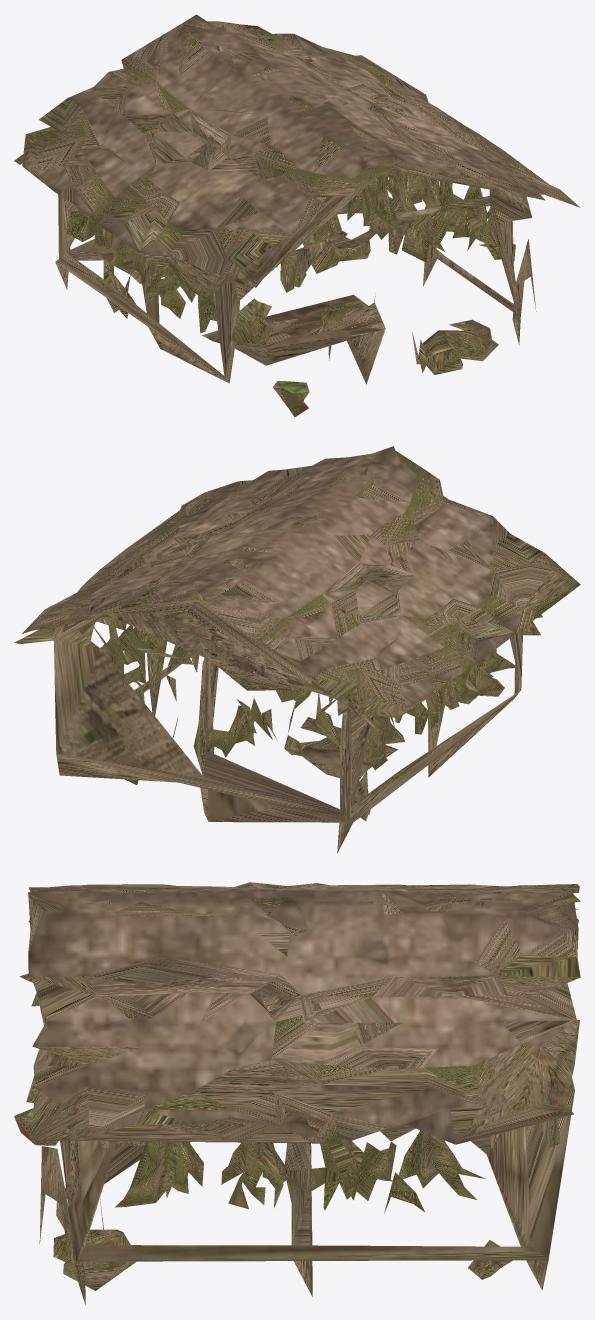
File: bq_incense.far.glb
3 views of the same model, one above another, from view 1: azimuth 30°, elevation 25°; view 2: azimuth 150°, elevation 25°; view 3: azimuth 270°, elevation 25° (orthographic). The views are drawn at different scales.
Visible parts, largest first — view 1: mesh_node; view 2: mesh_node; view 3: mesh_node.
Part boxes in pixels (x1=…): mesh_node: x1=14, y1=14, x2=580, y2=417; mesh_node: x1=14, y1=446, x2=580, y2=853; mesh_node: x1=14, y1=882, x2=580, y2=1304.
Bounding box in the file's own units: 1.89 × 1.11 × 1.81.
Materials: 1 (1 with a texture image).
